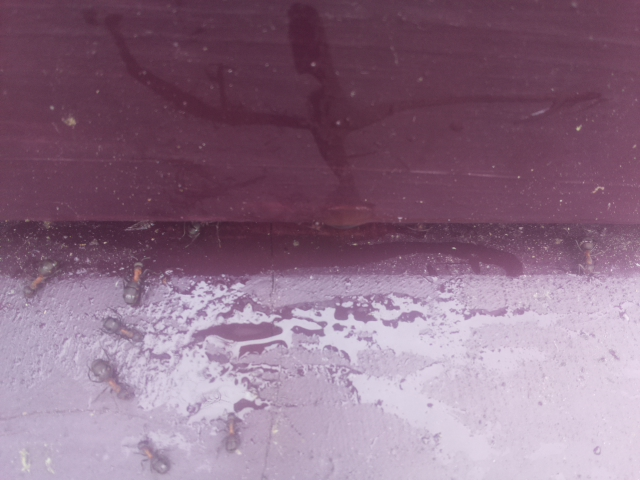ant: (17, 245, 67, 314), (81, 350, 141, 407), (131, 428, 176, 480), (119, 260, 151, 309), (216, 408, 246, 459), (575, 232, 598, 280), (98, 316, 135, 341)
